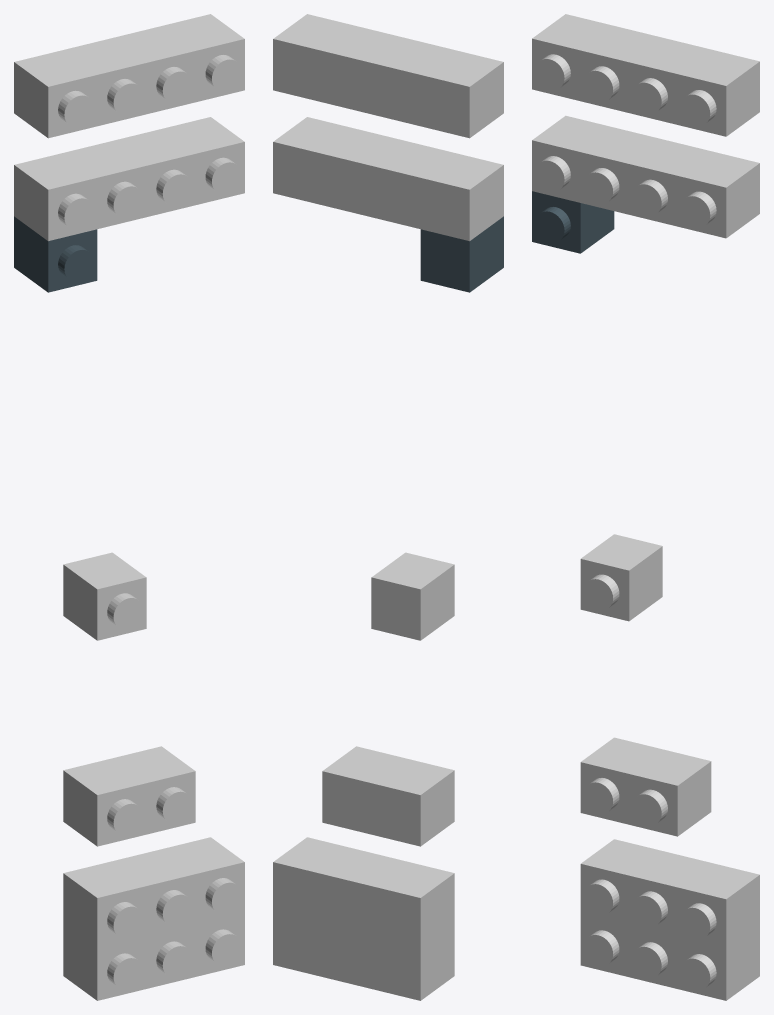
Rendered from current.glb.
3 renders of one model, left to right at view 1: azimuth 30°, elevation 25°; view 2: azimuth 150°, elevation 25°; view 3: azimuth 330°, elevation 25°, orthographic.
Parts seen in each view (by area): view 1: world; view 2: world; view 3: world.
Boxes of the visible parts, bbox=[...] form: world: bbox=[14, 14, 244, 1000]; world: bbox=[273, 14, 503, 1000]; world: bbox=[532, 14, 759, 1000].
Bounding box in the file's own units: 32 × 144 × 11.4.
